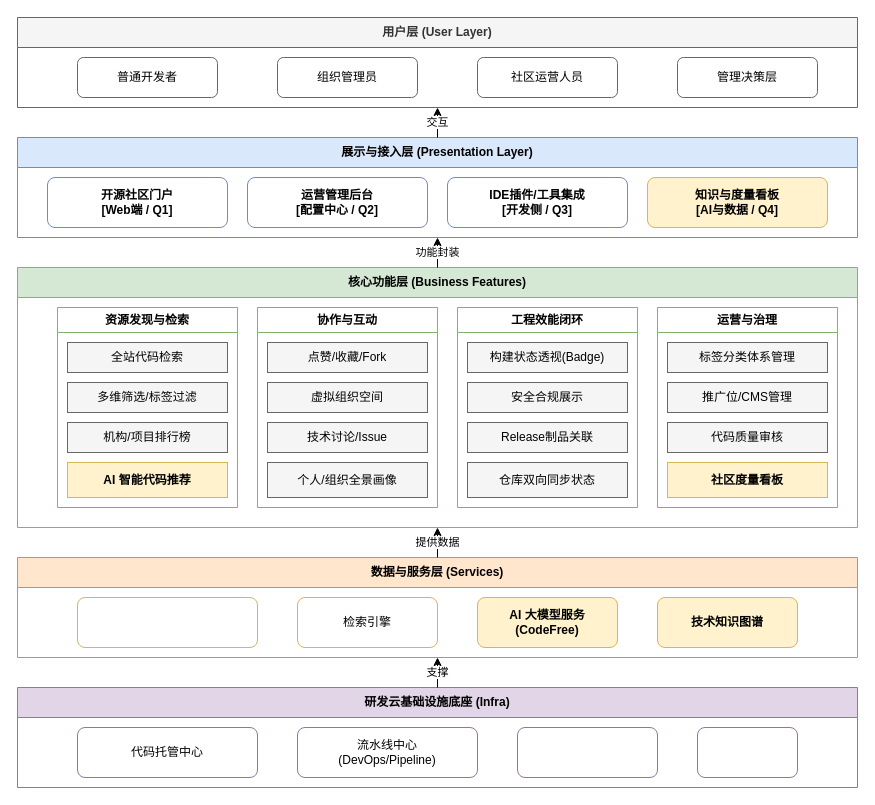
The diagram is 875 pixels wide and 805 high, and some of its shapes have lost their labels. The shapes that lost their labels are listed below. From the top down, each one's centre as x and y in pixels, then its label:
At pixel 167 622: "跨平台双向同步引擎".
At pixel 587 752: "制品库中心 (Artifacts)".
At pixel 747 752: "安全中心 (SecScan)".
